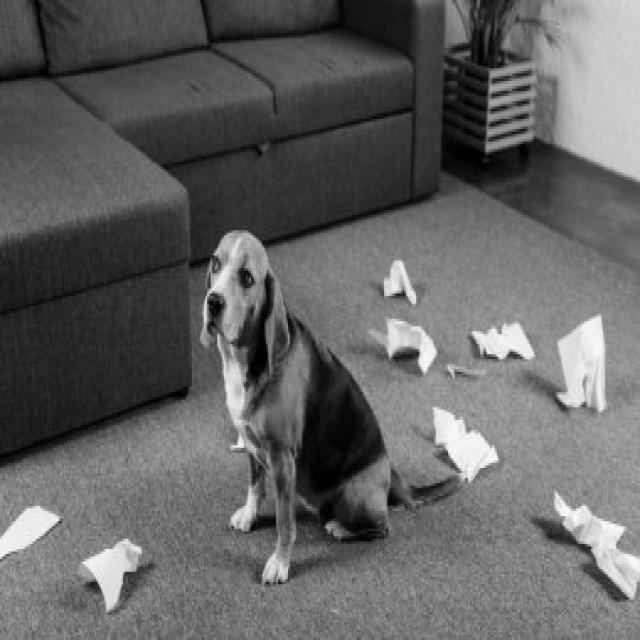Animal: (197, 229, 466, 583)
